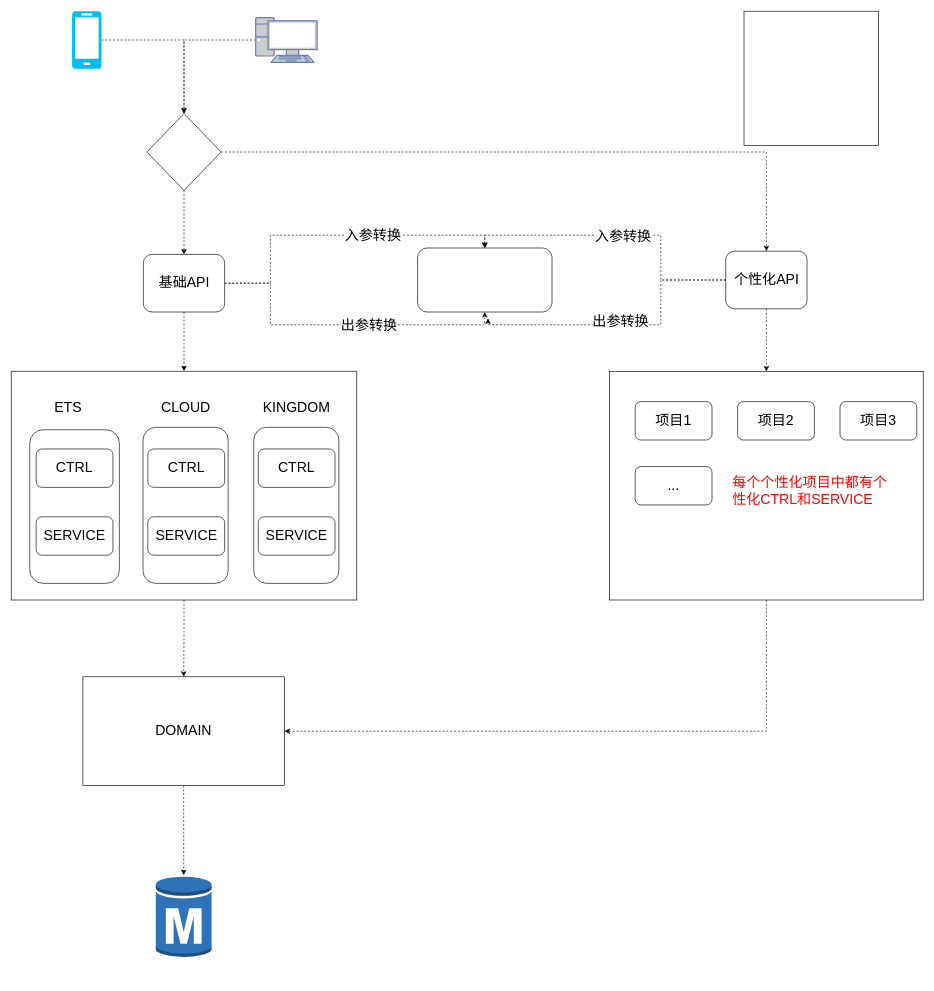
Some shapes in this 934 by 991 pixel diagram are drawn without their labels. The centre of each missing label's shape, as x and y in pixels:
"DB" belongs at (x=183, y=916).
"Nginx" belongs at (x=183, y=151).
"spring boot mybatis plus" belongs at (x=810, y=78).
"入参/出参转换器" belongs at (x=484, y=279).
